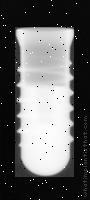Leone: (13, 27, 74, 177)
